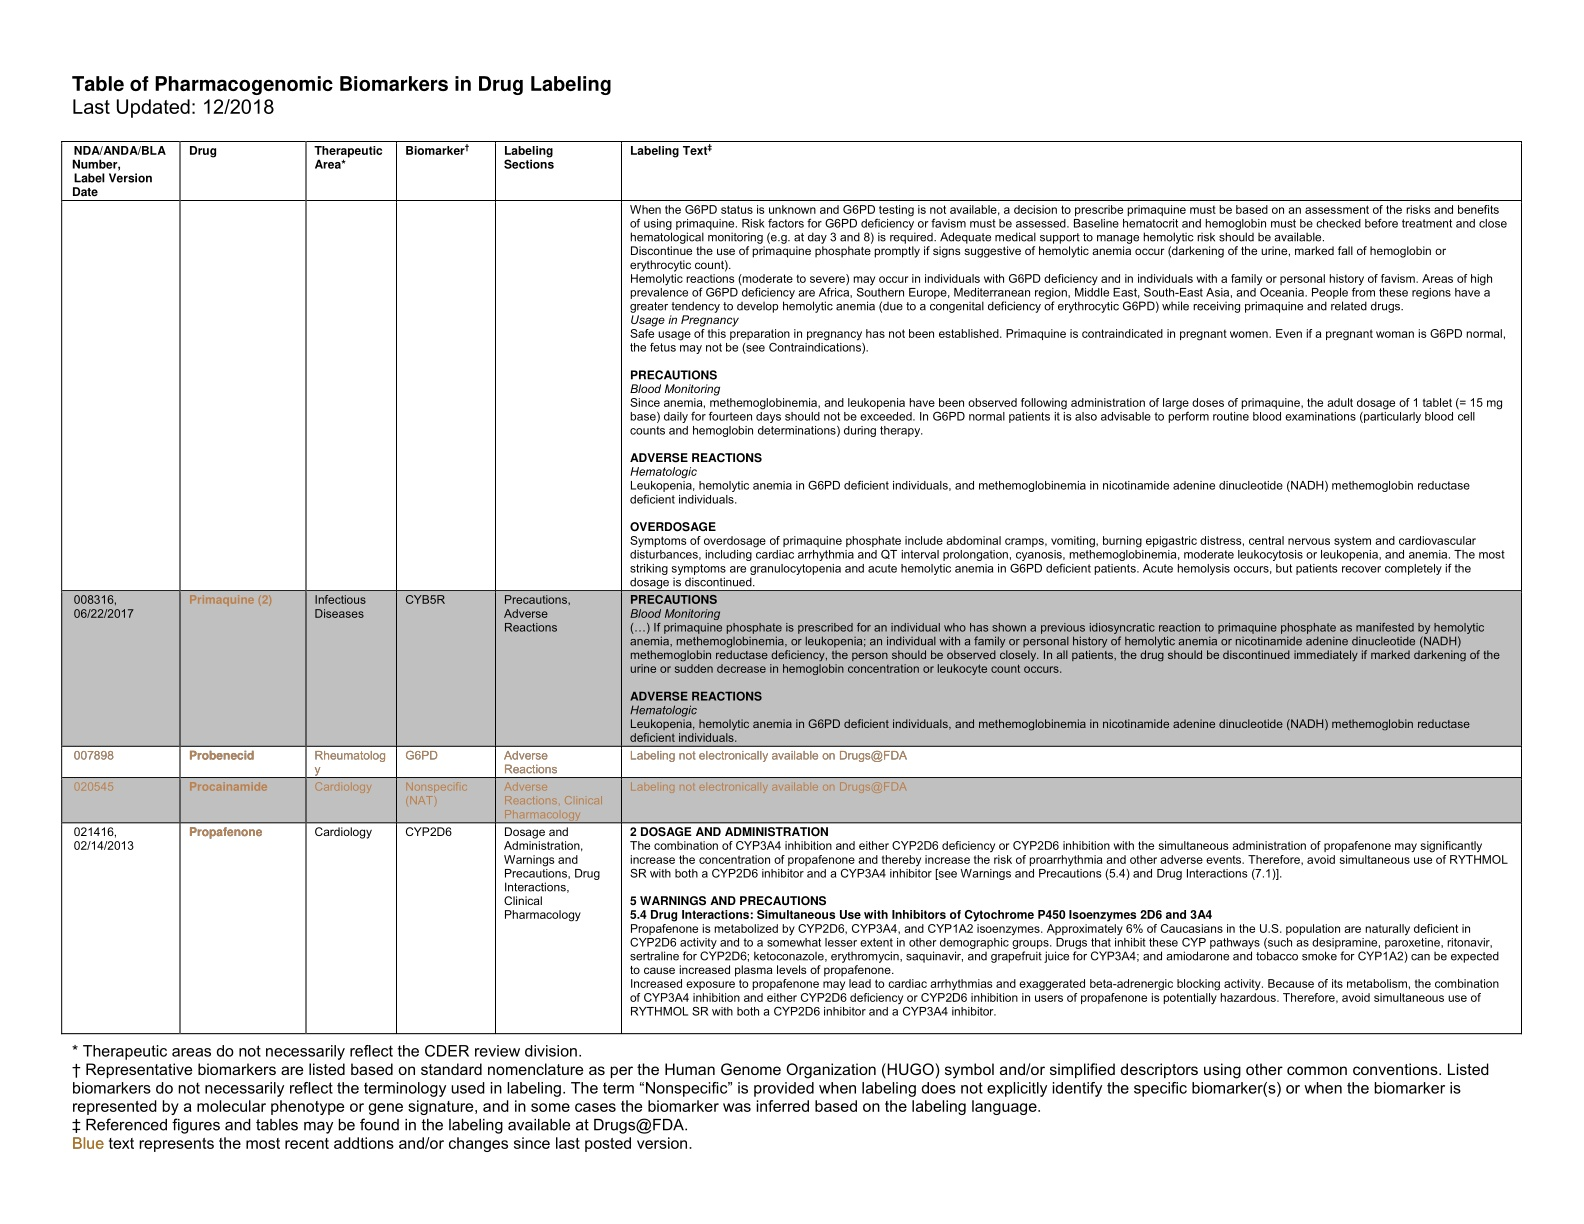full_lined: (60, 141, 1524, 1035)
